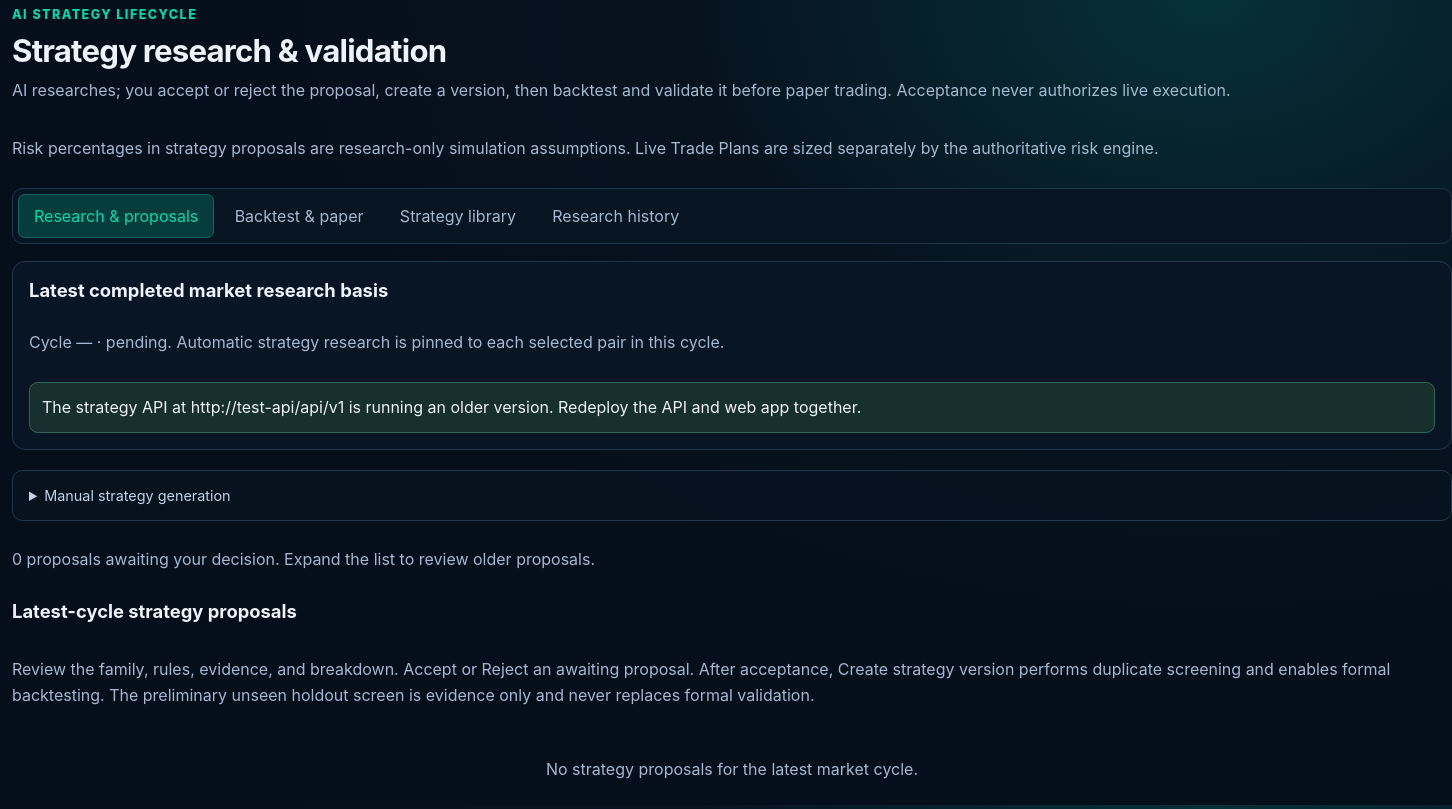
Test: shows a version mismatch instead of crashing when the API returns the old shape
expect the text "running an older version" is shown: met, box [344,397,861,417]
Click the heading "Manual strategy generation".
click(138, 495)  # box [44,487,231,504]
(page scrolled)
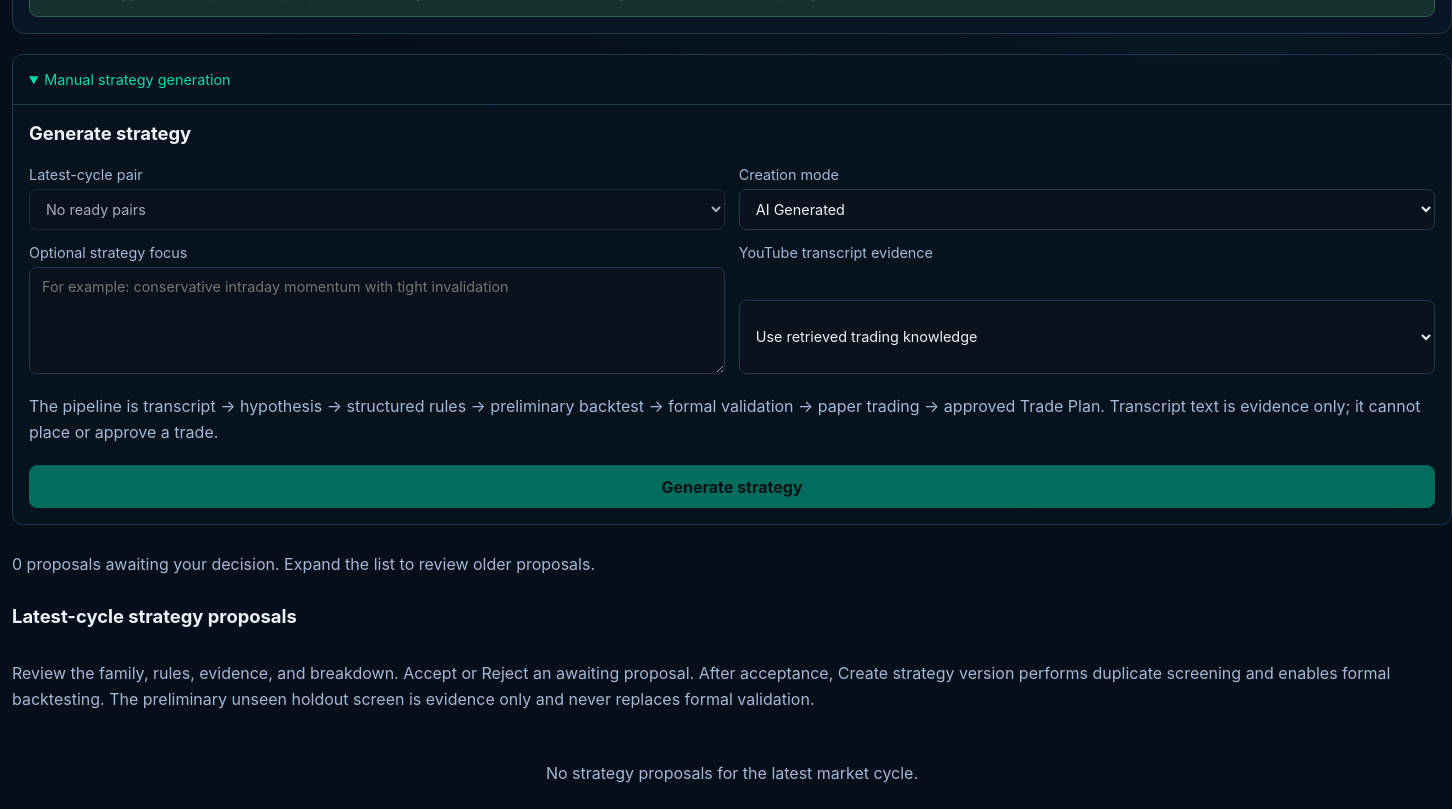
expect the button "Generate strategy" is disabled: met, box [29,466,1435,508]
